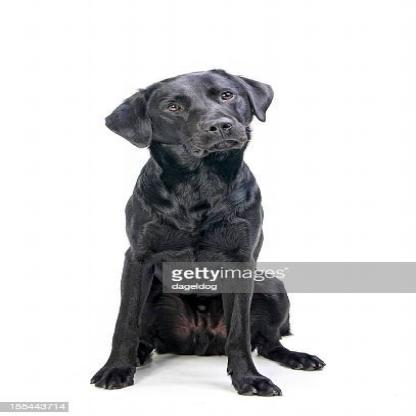dog: (84, 63, 322, 390)
